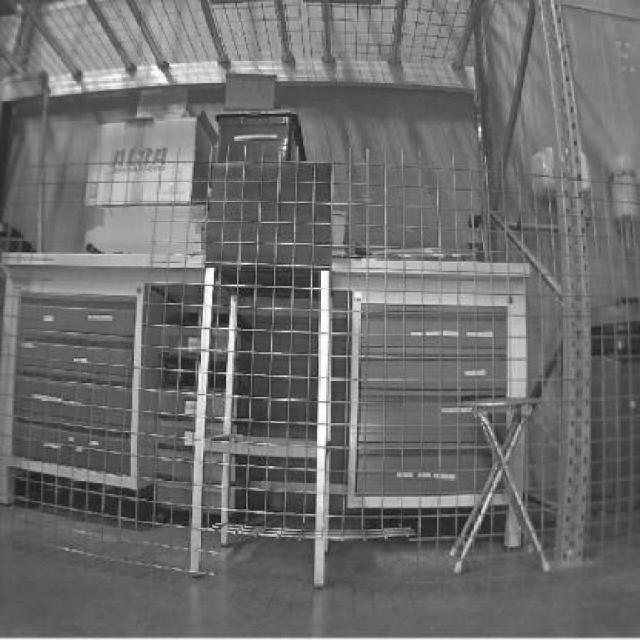fence line: (50, 189, 176, 320), (219, 525, 425, 584)
